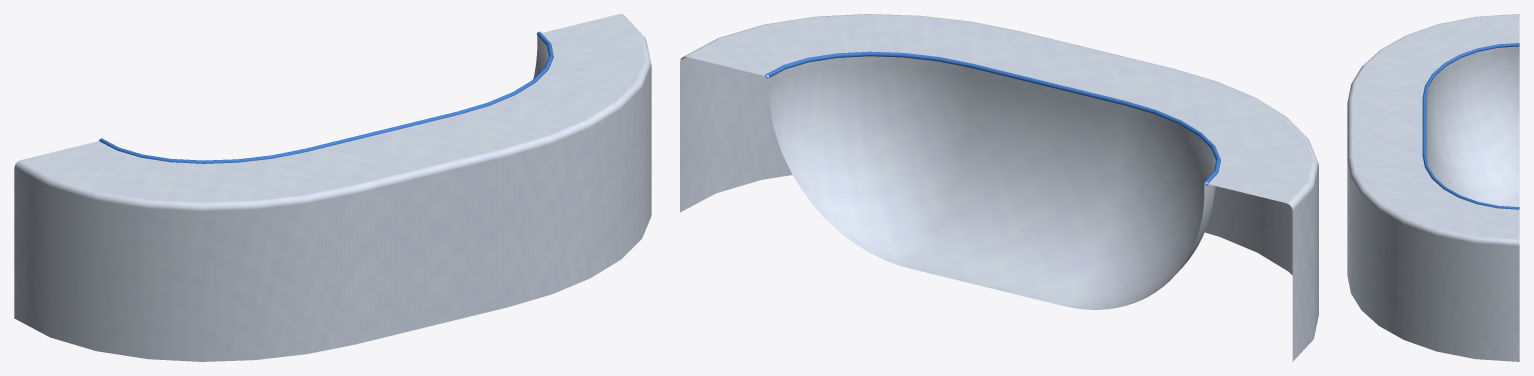
The model's file is SM_UPipe_End.glb.
3 renders of one model, left to right at view 1: azimuth 30°, elevation 25°; view 2: azimuth 150°, elevation 25°; view 3: azimuth 270°, elevation 25°, orthographic. The views are drawn at different scales.
Visible parts, largest first — view 1: SM_UPipe_End, Coping; view 2: SM_UPipe_End, Coping; view 3: SM_UPipe_End, Coping.
Boxes of the visible parts, <box> form: SM_UPipe_End: <box>14,14,651,361</box>; Coping: <box>99,31,553,163</box>; SM_UPipe_End: <box>680,14,1318,361</box>; Coping: <box>765,51,1220,185</box>; SM_UPipe_End: <box>1347,14,1519,361</box>; Coping: <box>1422,43,1519,209</box>.
Size of the model in its own units: 20.8 by 5.17 by 6.6.
Materials: 2 (1 with a texture image).
